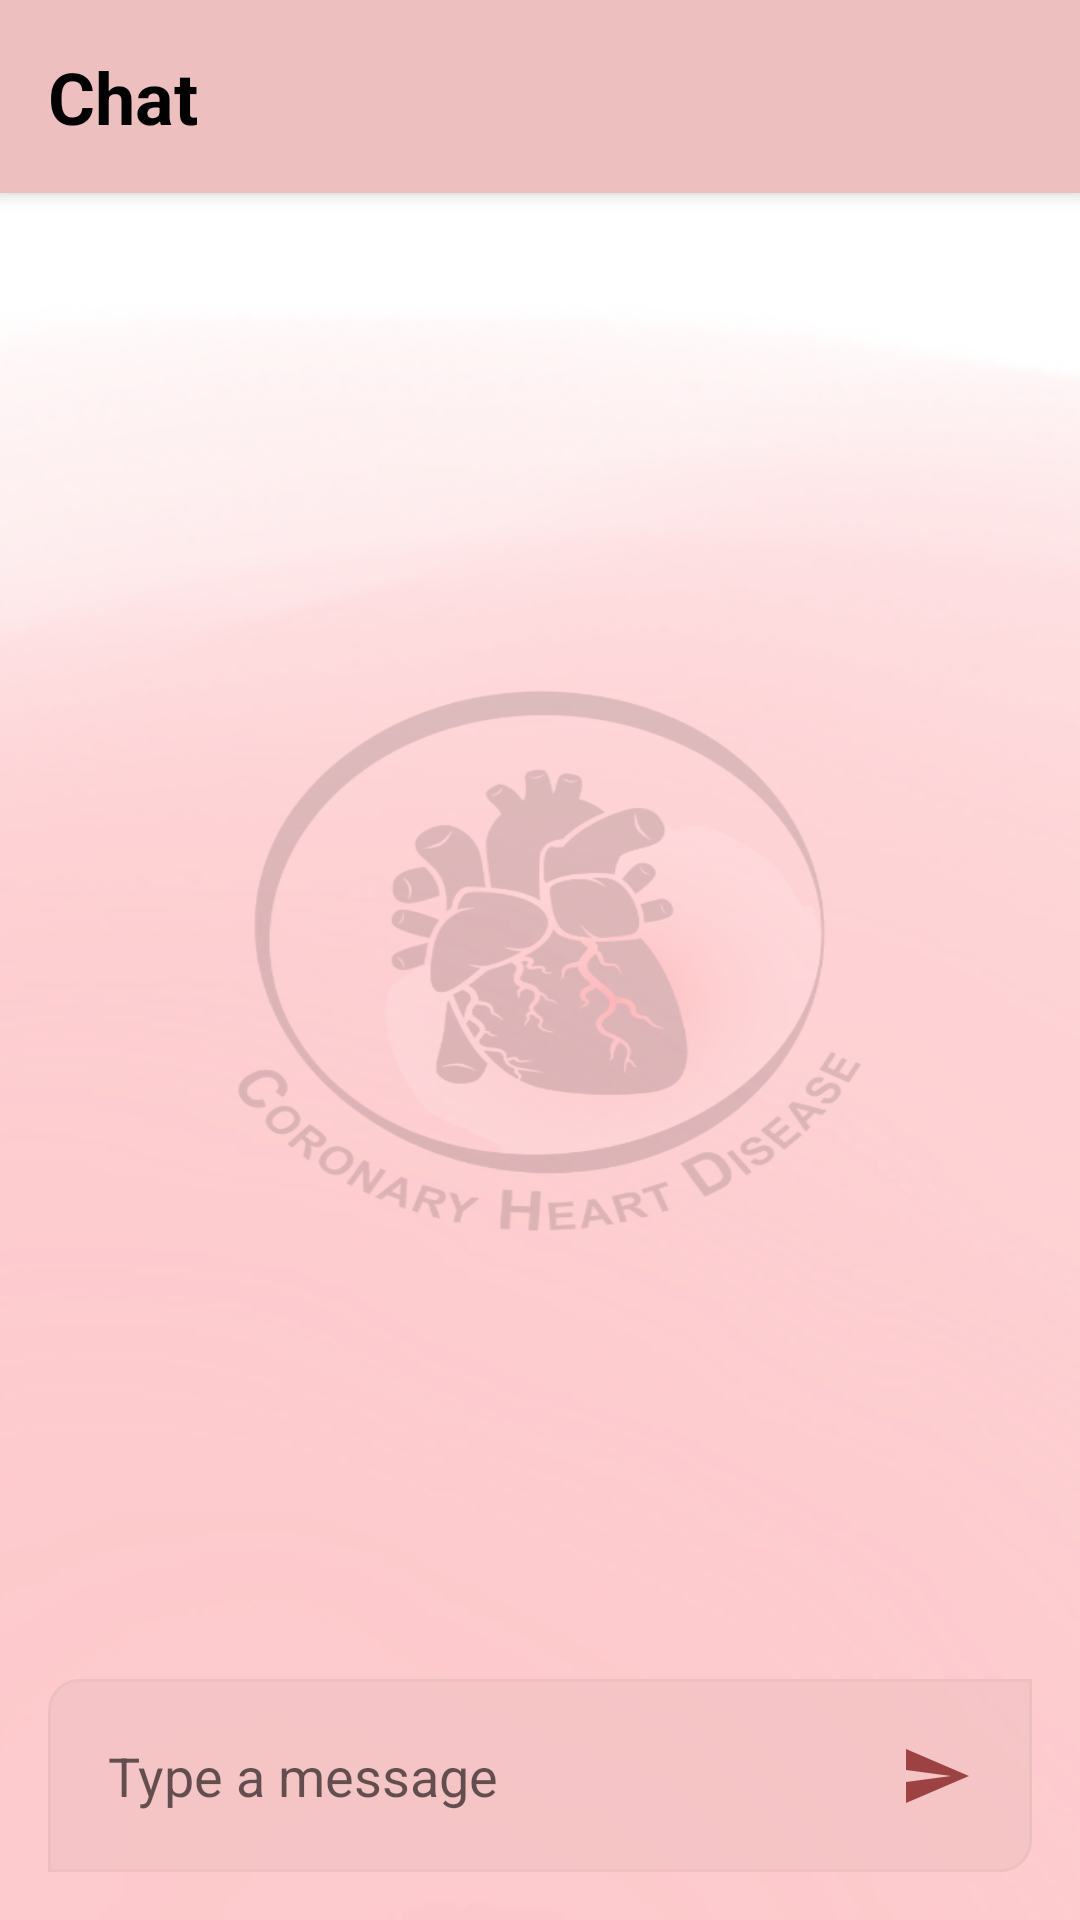

Screen size 1080px×1920px. Icon name, then its box in pixels as (x1, y1, x2, y2):
Send Button: (906, 1749, 969, 1803)
